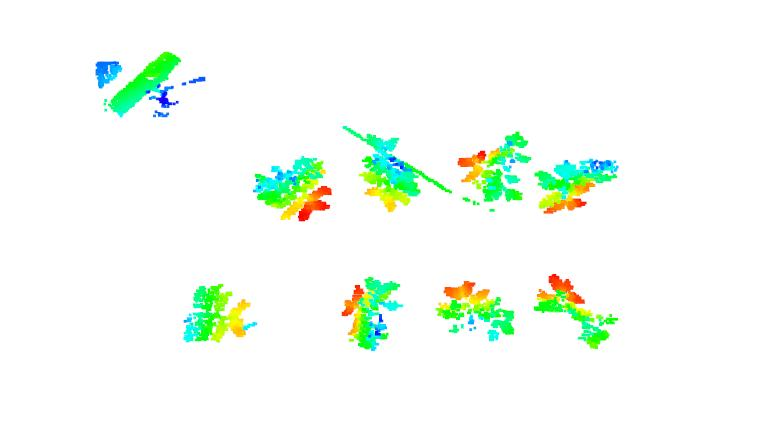chickpea: (534, 273, 619, 351), (457, 127, 531, 204), (252, 157, 334, 223), (535, 153, 620, 215), (435, 278, 518, 341), (358, 133, 422, 211), (180, 283, 256, 348), (342, 277, 403, 351)
